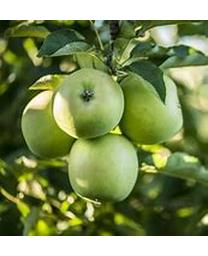apple: (54, 69, 124, 140), (68, 132, 139, 202), (120, 73, 181, 144), (20, 89, 74, 159)
